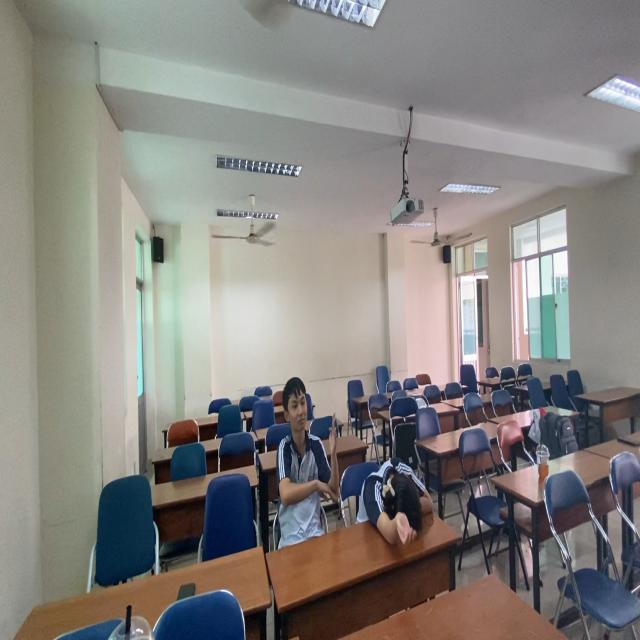raise_hand: (269, 368, 343, 560)
sleep: (353, 446, 444, 558)
